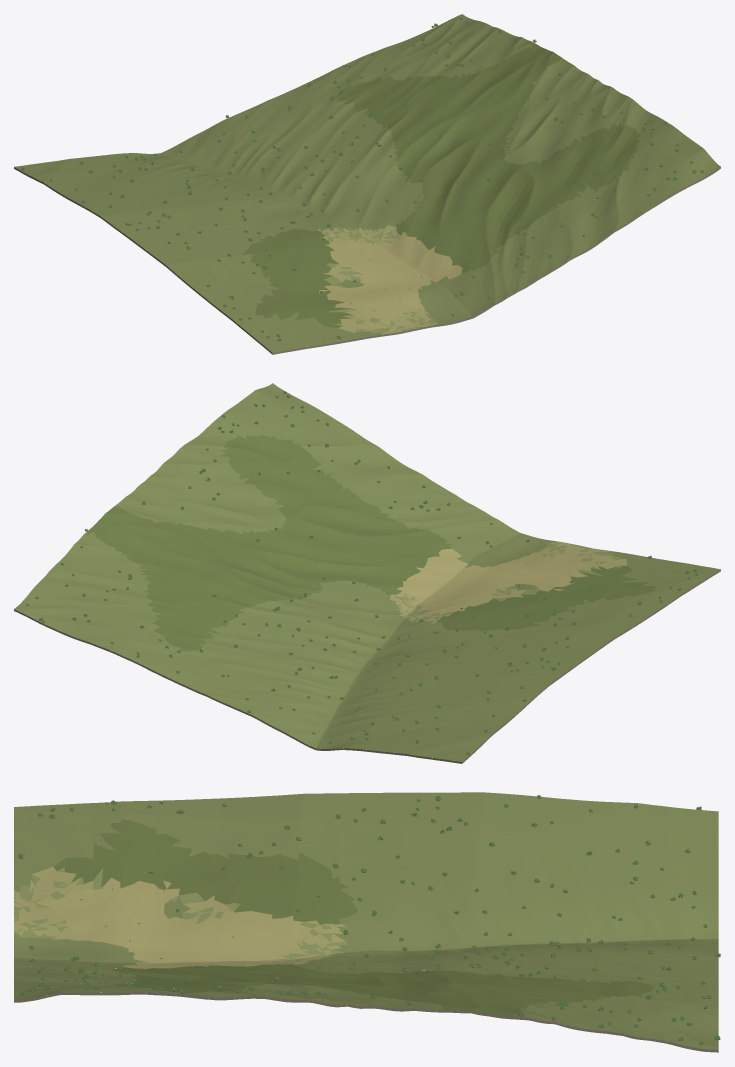
Rendered from parca_+2_-6-yakin.glb.
3 views of the same model, one above another, from view 1: azimuth 30°, elevation 25°; view 2: azimuth 150°, elevation 25°; view 3: azimuth 270°, elevation 25° (orthographic). The views are drawn at different scales.
Parts seen in each view (by area): view 1: parca_+2_-6_arazi, parca_+2_-6_bitkiler; view 2: parca_+2_-6_arazi, parca_+2_-6_bitkiler; view 3: parca_+2_-6_arazi, parca_+2_-6_bitkiler.
Boxes of the visible parts, x1,y1,x2,y2 form: parca_+2_-6_arazi: (14,14,720,354); parca_+2_-6_bitkiler: (21,17,704,341); parca_+2_-6_arazi: (14,383,720,763); parca_+2_-6_bitkiler: (26,391,698,754); parca_+2_-6_arazi: (14,792,718,1052); parca_+2_-6_bitkiler: (18,795,720,1044).
Bounding box in the file's own units: 1004 × 238 × 1003.
